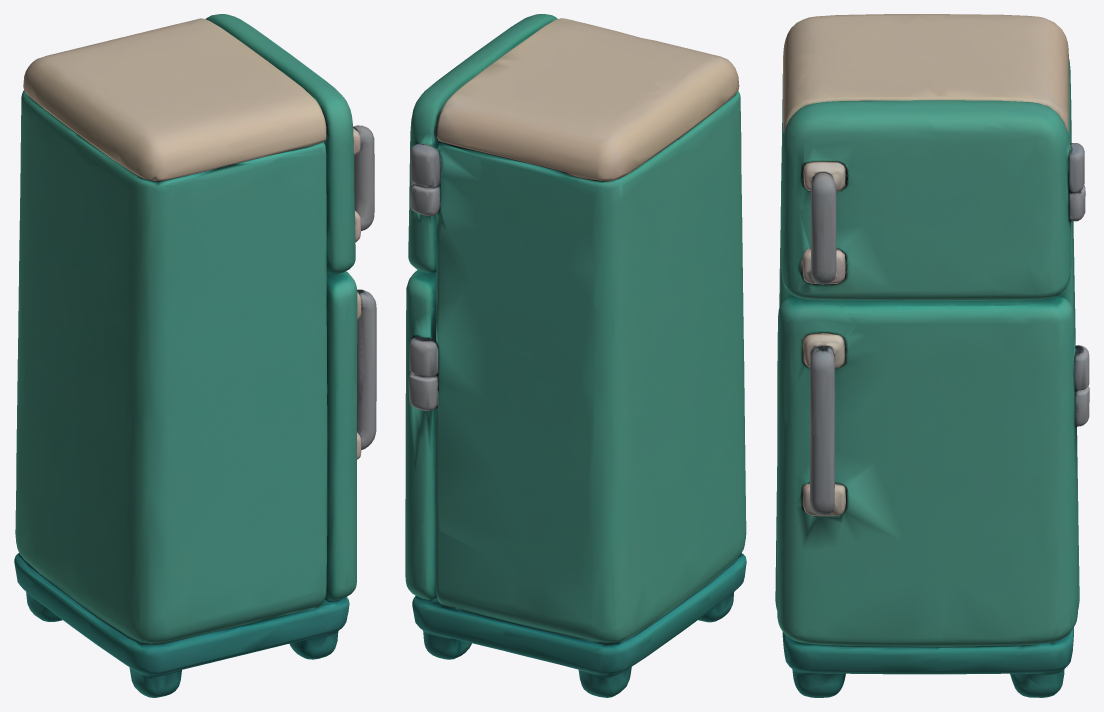
File: fridge.glb
The picture shows the model from 3 angles, left to right: view 1: azimuth 30°, elevation 25°; view 2: azimuth 150°, elevation 25°; view 3: azimuth 270°, elevation 25°; orthographic projection. The views are drawn at different scales.
Parts seen in each view (by area): view 1: tripo_node_e086bbe1-cc5d-40bf-84ca-c331c9531cbc; view 2: tripo_node_e086bbe1-cc5d-40bf-84ca-c331c9531cbc; view 3: tripo_node_e086bbe1-cc5d-40bf-84ca-c331c9531cbc.
Boxes of the visible parts, left/top/right/bottom form: tripo_node_e086bbe1-cc5d-40bf-84ca-c331c9531cbc: left=14, top=14, right=376, bottom=697; tripo_node_e086bbe1-cc5d-40bf-84ca-c331c9531cbc: left=405, top=14, right=746, bottom=697; tripo_node_e086bbe1-cc5d-40bf-84ca-c331c9531cbc: left=775, top=14, right=1089, bottom=697.
Bounding box in the file's own units: 0.4727 × 0.9999 × 0.4775.
Materials: 1 (1 with a texture image).
